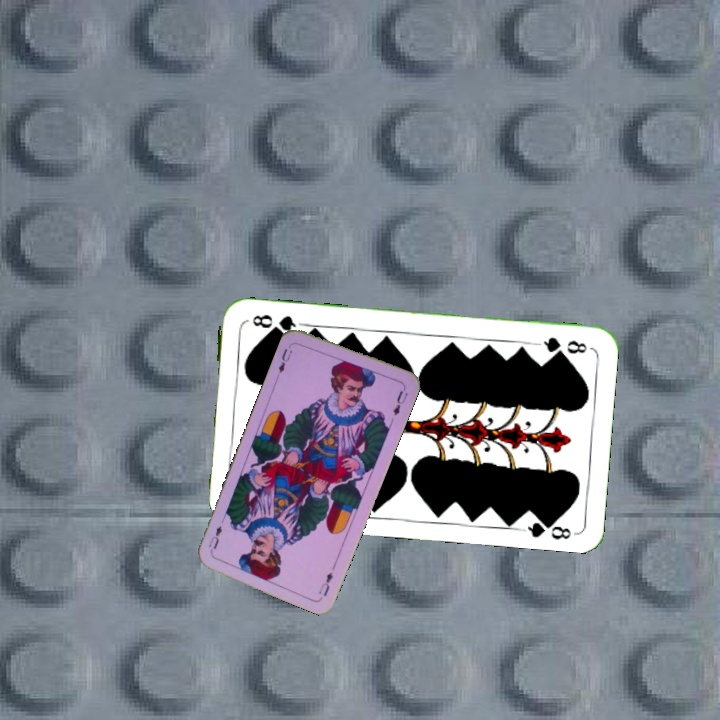EU: (274, 344, 295, 375), (314, 568, 335, 599)
G8: (533, 332, 589, 357)
